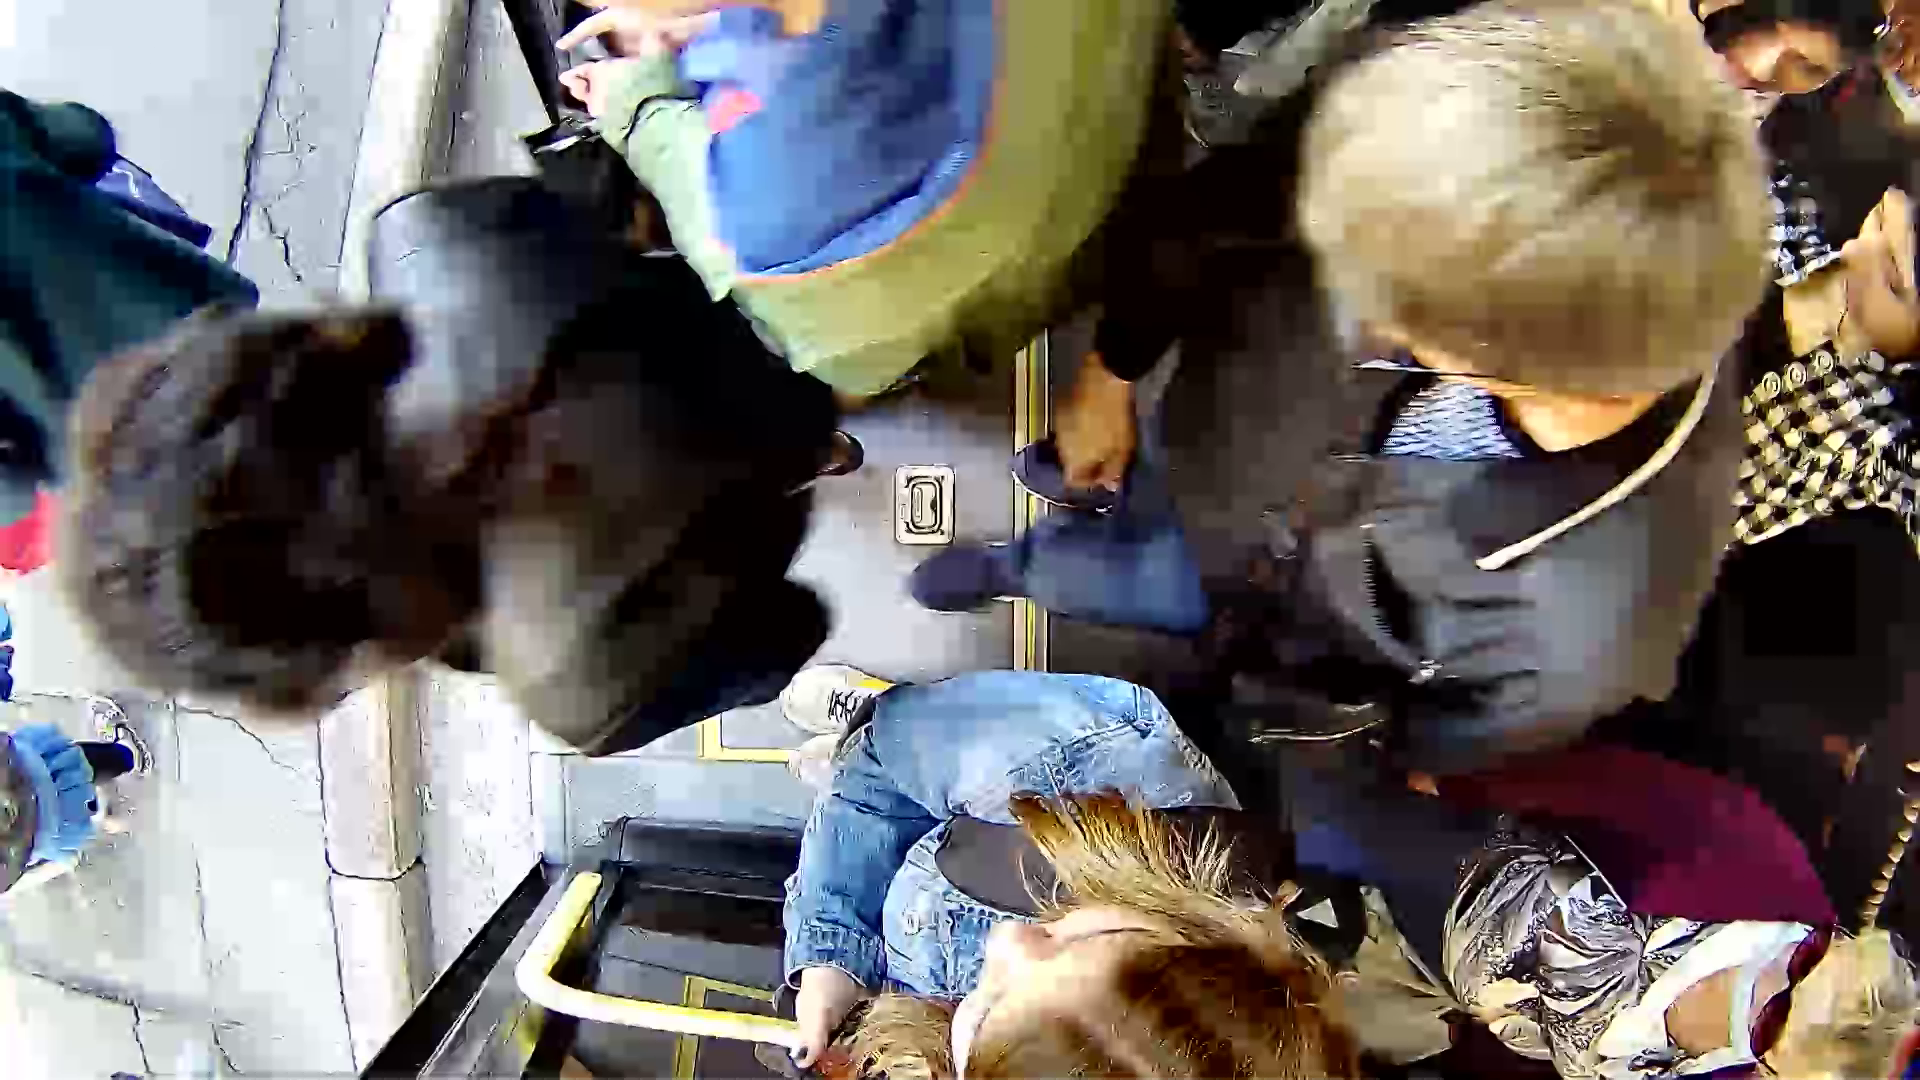person: (1133, 23, 1873, 659), (51, 204, 915, 723), (782, 637, 1359, 1073)
